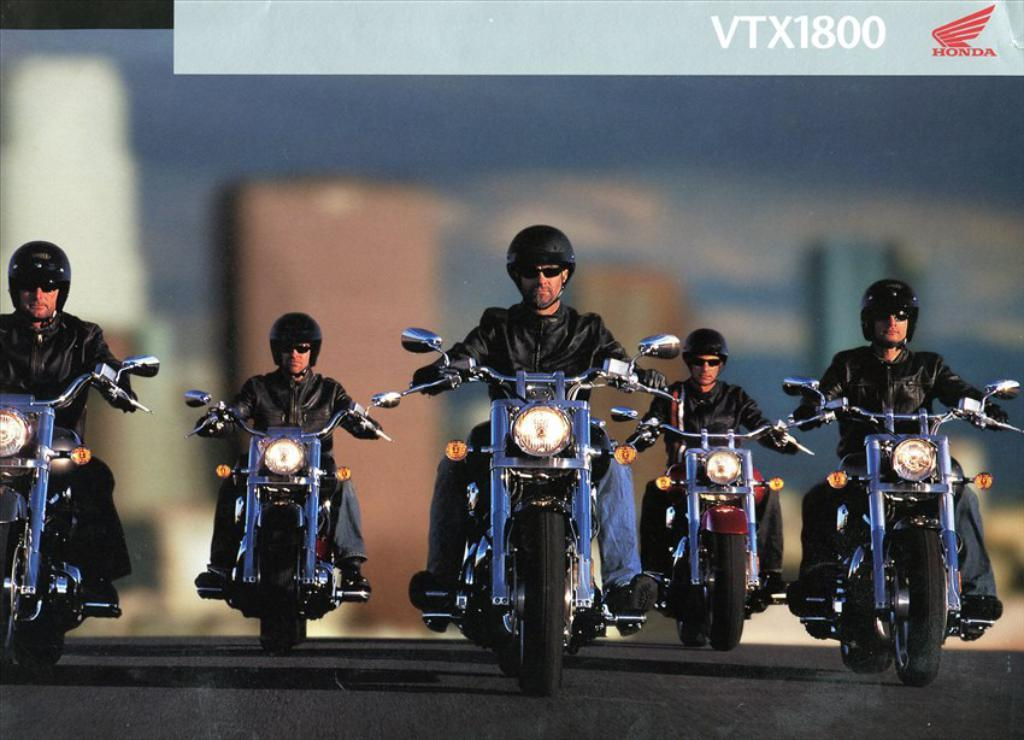helmet: (505, 223, 577, 311), (7, 239, 72, 323), (859, 278, 920, 349), (268, 312, 323, 378), (681, 327, 730, 387)
